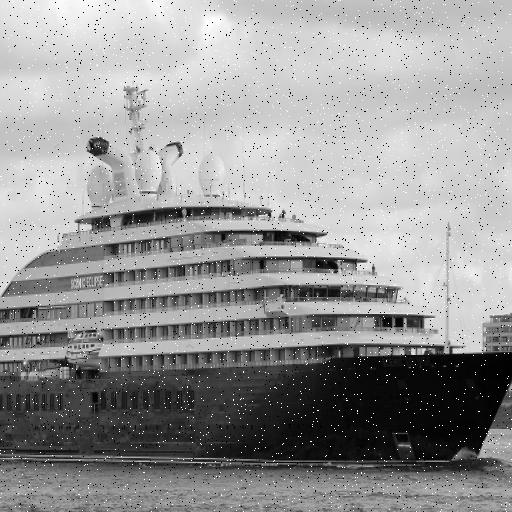cruises: (1, 70, 512, 481)
